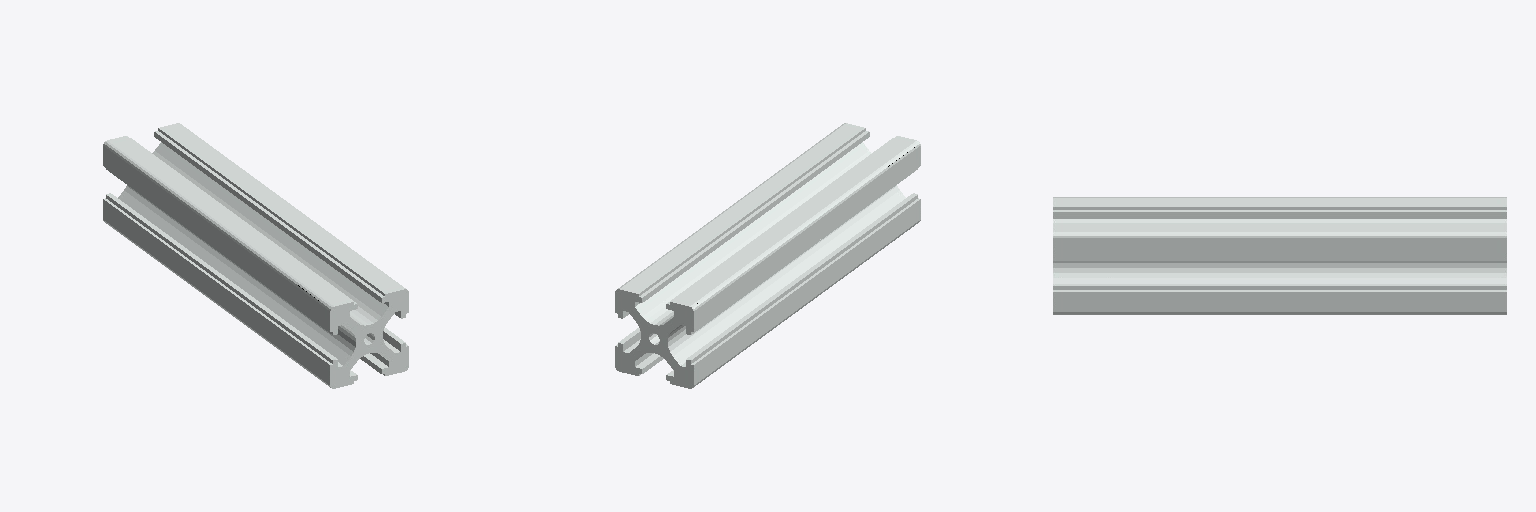
3 renders of one model, left to right at view 1: azimuth 30°, elevation 25°; view 2: azimuth 150°, elevation 25°; view 3: azimuth 270°, elevation 25°, orthographic.
Visible parts, largest first — view 1: F20_20_g_Material; view 2: F20_20_g_Material; view 3: F20_20_g_Material.
Part boxes in pixels (x1,y1,x2,y2): F20_20_g_Material: (103,123,408,388); F20_20_g_Material: (615,123,920,388); F20_20_g_Material: (1053,197,1506,314).
Size of the model in its own units: 1.2 by 1.2 by 6.
1 materials, 1 textured.